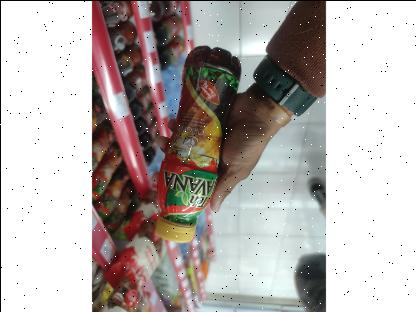Plastic Bottle: (140, 30, 252, 254)
